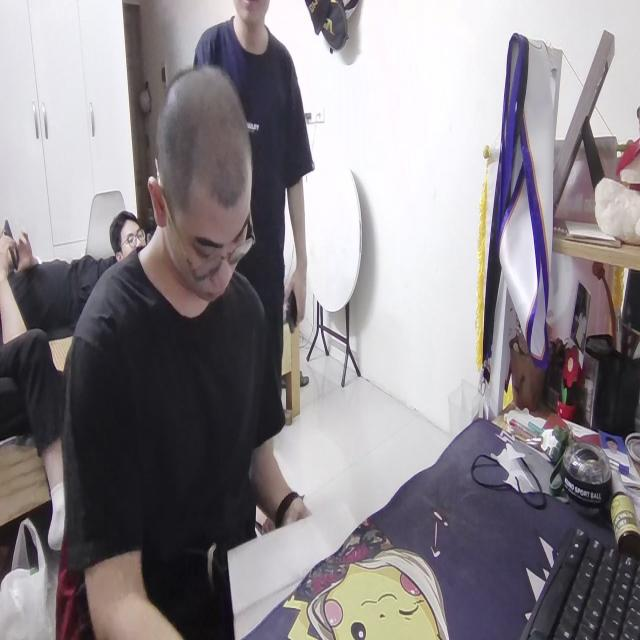book: (215, 491, 358, 627)
extra_person: (194, 0, 311, 415), (111, 207, 153, 270)
student: (51, 64, 315, 640)
